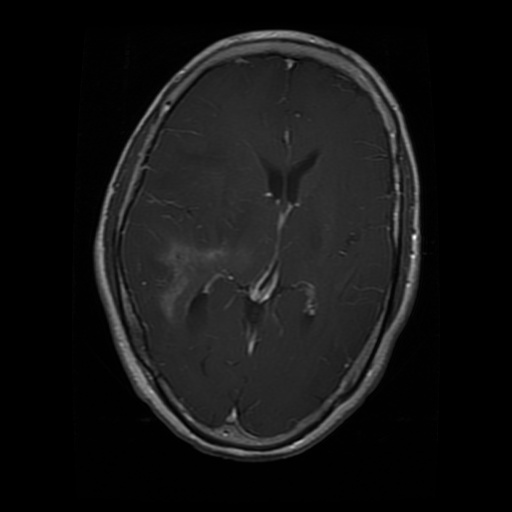glioma: (151, 224, 245, 331)
